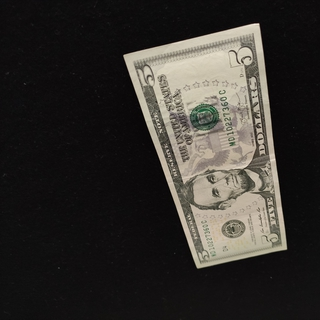5USDFront: (122, 23, 288, 269)
